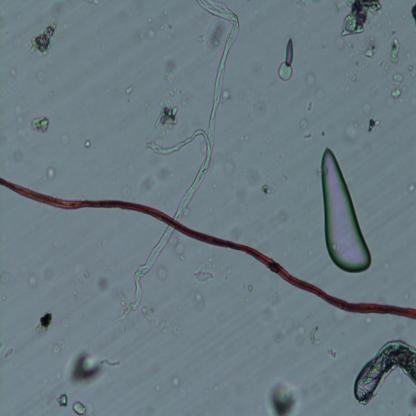Air bubble: (320, 144, 373, 276), (284, 38, 294, 67)
Background material: (265, 292, 306, 353), (340, 1, 382, 38), (67, 349, 108, 386), (265, 376, 300, 414), (334, 40, 360, 91), (136, 162, 172, 198), (30, 23, 58, 57), (154, 103, 181, 135), (204, 19, 228, 52), (143, 9, 162, 41), (13, 100, 27, 137), (223, 148, 237, 180), (31, 114, 51, 136), (253, 101, 270, 126), (48, 0, 67, 21), (6, 144, 25, 165), (275, 61, 293, 83), (169, 235, 185, 258), (94, 274, 112, 294), (192, 270, 215, 285), (344, 122, 361, 142), (389, 38, 400, 66), (245, 169, 260, 188), (315, 82, 327, 105), (26, 267, 38, 290), (39, 315, 54, 333), (50, 336, 65, 354), (163, 56, 178, 74), (155, 264, 170, 282), (154, 315, 168, 334), (56, 393, 72, 409), (324, 345, 338, 363), (71, 401, 89, 415), (75, 268, 89, 284), (58, 131, 72, 146), (140, 304, 153, 320), (389, 85, 402, 101), (363, 45, 377, 59), (366, 117, 378, 133), (195, 293, 205, 312), (309, 327, 319, 345), (404, 181, 416, 195), (392, 72, 404, 86), (151, 383, 164, 395), (305, 72, 316, 86), (259, 187, 274, 197), (297, 117, 308, 130), (123, 84, 134, 97), (45, 168, 56, 181), (364, 102, 374, 115), (170, 376, 180, 388), (6, 345, 13, 360), (248, 284, 255, 298), (87, 0, 103, 6), (172, 326, 182, 335), (222, 92, 230, 103), (382, 260, 389, 272), (307, 100, 314, 112), (84, 138, 91, 148), (304, 132, 312, 140)
Cellulose filter fibre: (116, 2, 240, 324), (354, 338, 416, 406)
Cotton: (0, 177, 416, 322)
